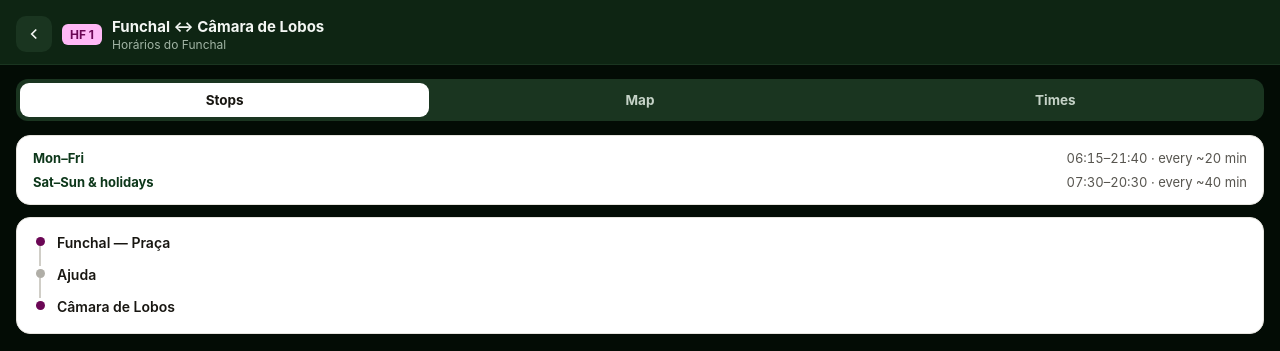
Test case: RouteDetailScreen › Times view › switches to the weekend trips on the toggle
Click the button "Times" at (1055, 100), box [851,83,1260,117]
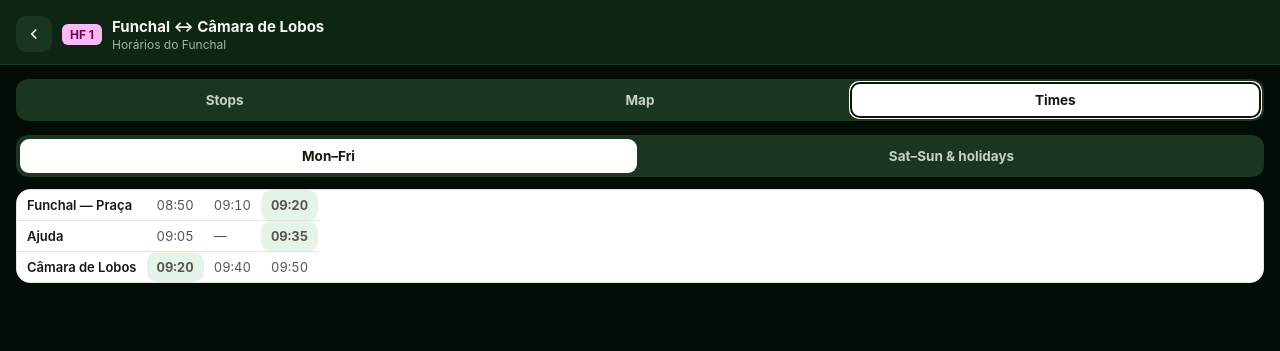
Click the button "Sat–Sun & holidays" at (952, 156), box [643,139,1260,173]
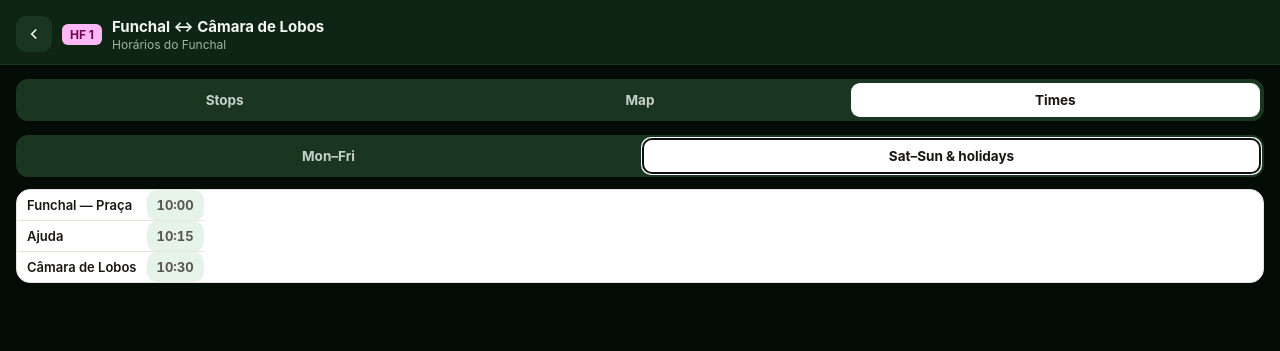
Now the cells read "10:15", in this order, box [146,220,204,252]
